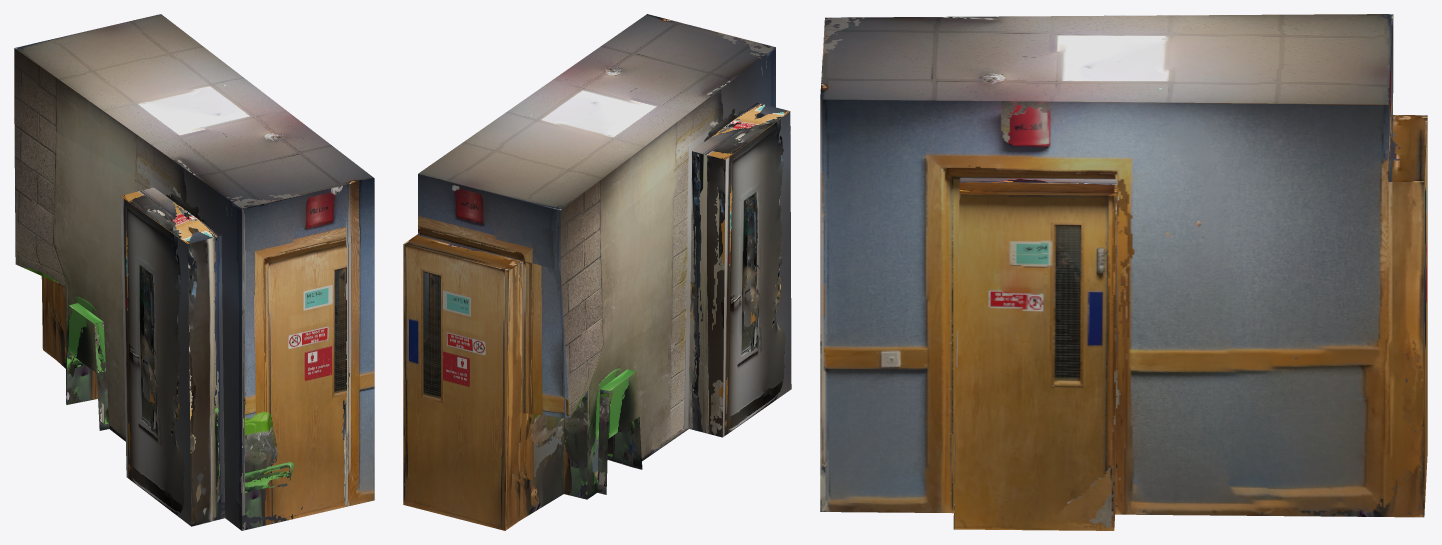
The model's file is 2-studio-cor.fbx.
3 views of the same model, side by side, from view 1: azimuth 30°, elevation 25°; view 2: azimuth 150°, elevation 25°; view 3: azimuth 270°, elevation 25° (orthographic). The views are drawn at different scales.
Parts seen in each view (by area): view 1: 2-studio-LP; view 2: 2-studio-LP; view 3: 2-studio-LP.
Part boxes in pixels (x1=…): 2-studio-LP: x1=14, y1=14, x2=374, y2=530; 2-studio-LP: x1=403, y1=14, x2=791, y2=530; 2-studio-LP: x1=820, y1=14, x2=1427, y2=530.
Size of the model in its own units: 152 by 237 by 316.
1 material, 1 textured.
